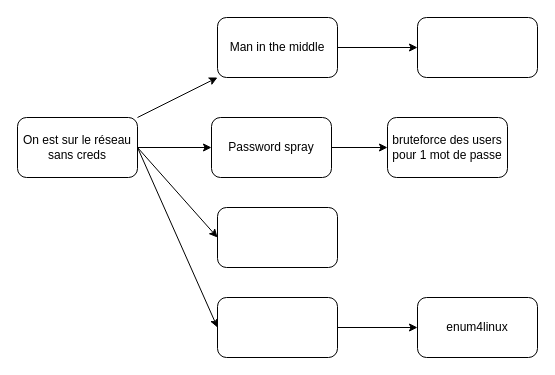
Image size: 555x375. Some labels were removed from this diagram. The shapes that lost their labels are listed below. From the top down, each one's centre as x and y in pixels, then its label:
pixel 477 47: relay / poisonning
pixel 277 237: Find open smb share
pixel 277 327: find users
